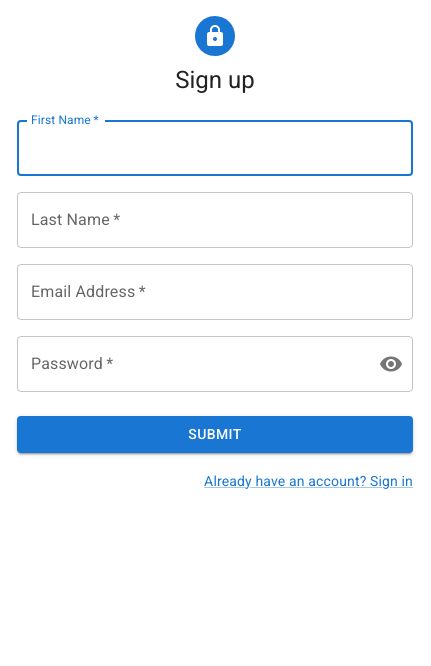
input last name
Step 1. Type "Nguyen" into the field labelled "Last Name *" → (215, 220), box [17, 192, 413, 248]
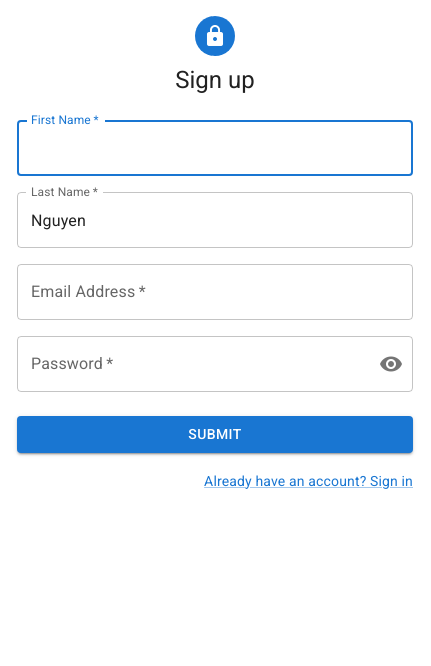
Step 2. Click the button "Submit" → (215, 434), box [17, 416, 413, 452]
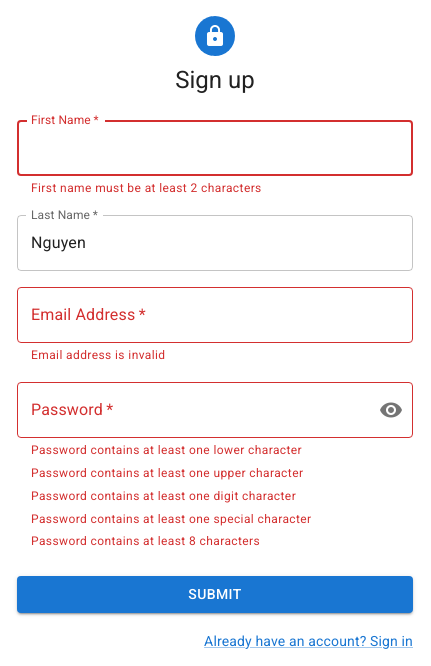
Expected: the text "First name must be at least 2 characters" is shown, [31, 181, 262, 195]
Expected: the text "Email address is invalid" is shown, [31, 348, 166, 362]
Expected: the text "Password contains at least one lower character" is shown, [31, 443, 302, 457]
